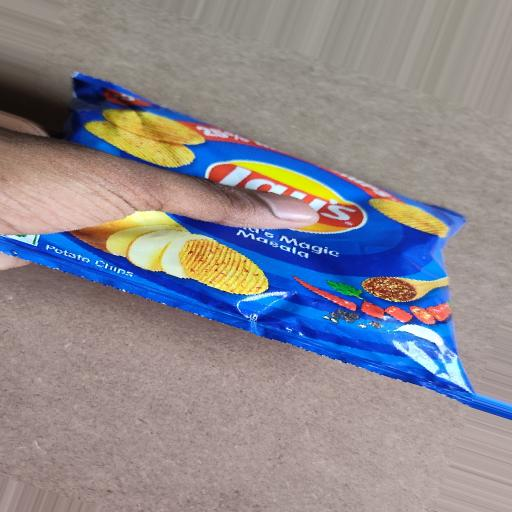Lays Blue (India Masala magic): (15, 44, 511, 428)
